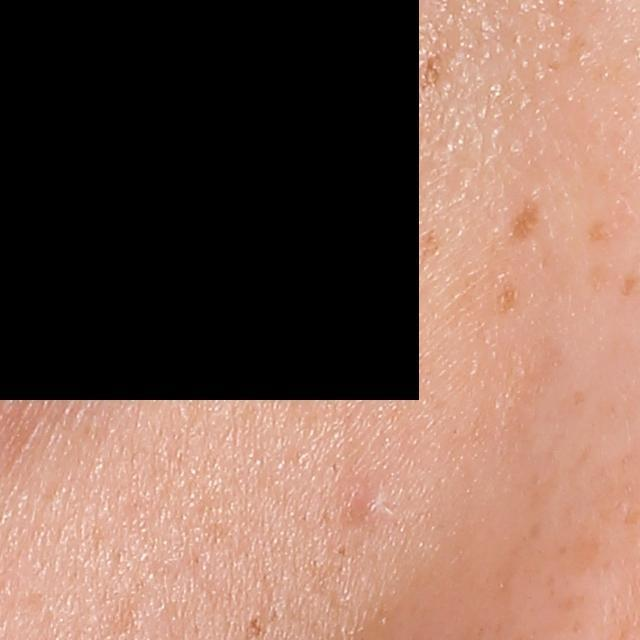melasma: (506, 188, 549, 245), (582, 211, 616, 247), (496, 276, 522, 315), (420, 224, 441, 262)
papule: (350, 478, 393, 519)
